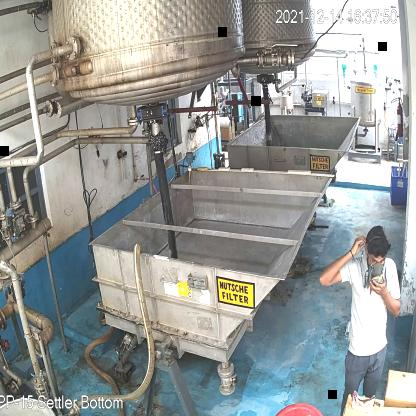mask: (365, 262, 386, 294)
no_goggles: (364, 252, 386, 271)
